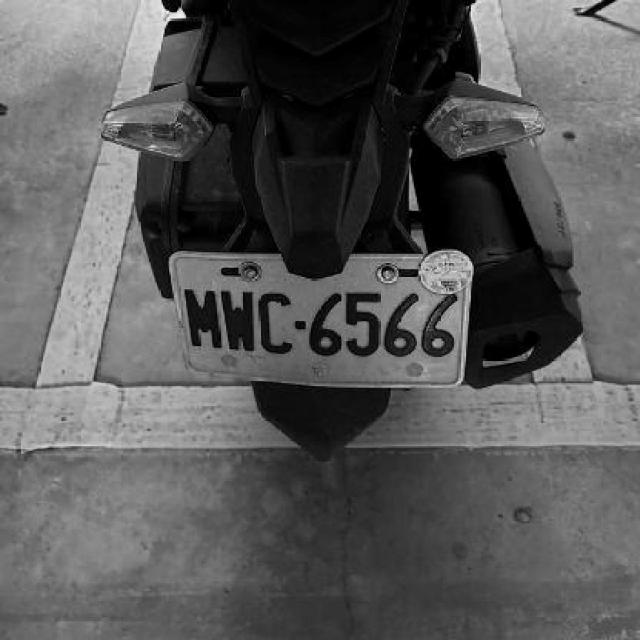-: (294, 318, 306, 331)
5: (342, 291, 382, 360)
6: (382, 286, 422, 357), (418, 283, 457, 355), (306, 288, 346, 357)
C: (257, 286, 295, 357)
M: (183, 285, 223, 349)
W: (220, 285, 258, 349)
